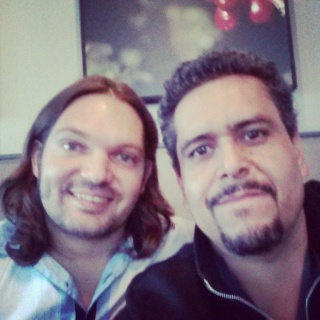without_mask: (174, 75, 303, 256), (38, 92, 145, 235)
